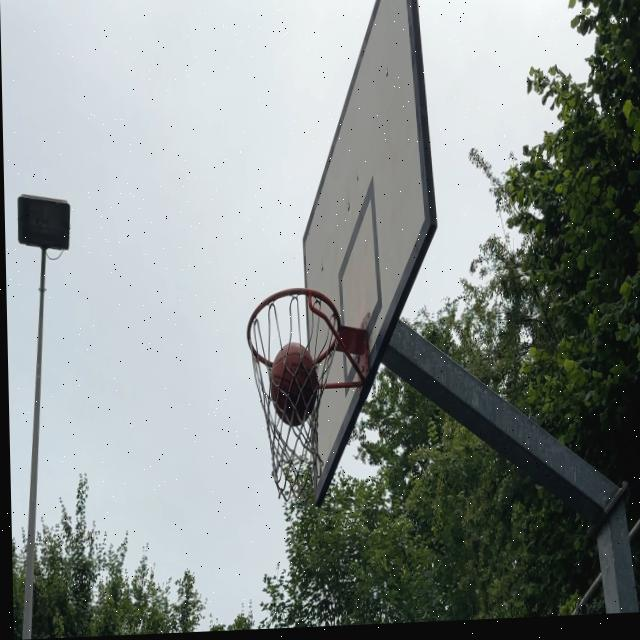Goal: (269, 342, 318, 427)
